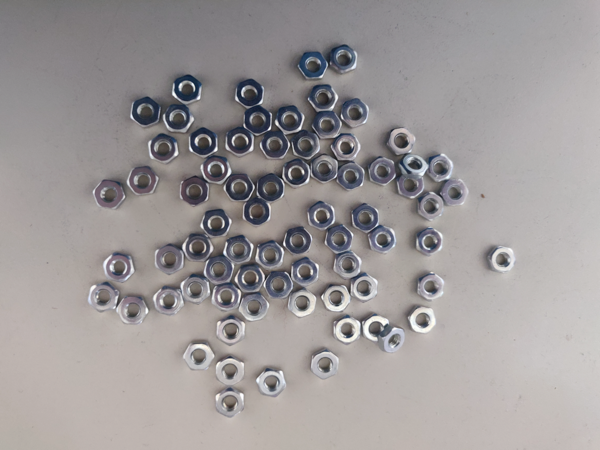nut: (93, 178, 126, 210), (127, 165, 159, 197), (147, 133, 179, 165), (130, 96, 162, 128), (163, 102, 195, 134), (172, 74, 204, 106), (234, 77, 265, 110), (242, 104, 273, 137), (215, 388, 246, 420), (182, 232, 213, 263), (203, 255, 234, 286), (104, 253, 135, 283), (89, 283, 120, 313), (153, 287, 184, 317), (153, 245, 184, 275), (215, 316, 246, 346), (184, 343, 215, 373), (215, 357, 246, 387), (287, 289, 318, 319), (211, 283, 242, 313), (180, 276, 211, 306), (224, 235, 255, 265), (235, 265, 266, 295), (240, 292, 271, 322), (298, 50, 328, 80), (309, 83, 339, 113), (276, 104, 306, 134), (225, 127, 255, 157), (180, 177, 210, 207), (201, 209, 231, 239), (118, 296, 148, 326), (256, 368, 286, 398), (333, 316, 363, 346), (322, 284, 352, 314), (291, 258, 321, 288), (282, 159, 312, 189), (336, 161, 366, 191), (310, 154, 340, 184), (310, 351, 341, 380), (283, 227, 314, 256), (306, 201, 337, 230), (241, 198, 272, 227), (416, 273, 447, 302), (367, 226, 398, 255), (350, 205, 381, 234), (323, 225, 354, 254), (333, 252, 364, 281), (329, 44, 358, 74), (341, 98, 370, 128), (189, 129, 218, 159), (256, 174, 286, 203), (201, 156, 231, 185), (414, 228, 444, 257), (408, 307, 438, 336), (260, 131, 289, 161), (368, 157, 397, 187), (487, 246, 517, 275), (224, 174, 255, 202), (331, 133, 360, 162), (349, 275, 379, 303), (264, 271, 294, 299), (255, 242, 285, 270), (387, 127, 415, 156), (378, 327, 406, 355), (361, 315, 389, 343), (313, 112, 341, 140), (427, 154, 454, 183), (295, 129, 321, 159), (400, 152, 428, 179), (419, 193, 445, 222), (442, 179, 468, 208), (420, 193, 446, 222), (397, 173, 424, 200)
